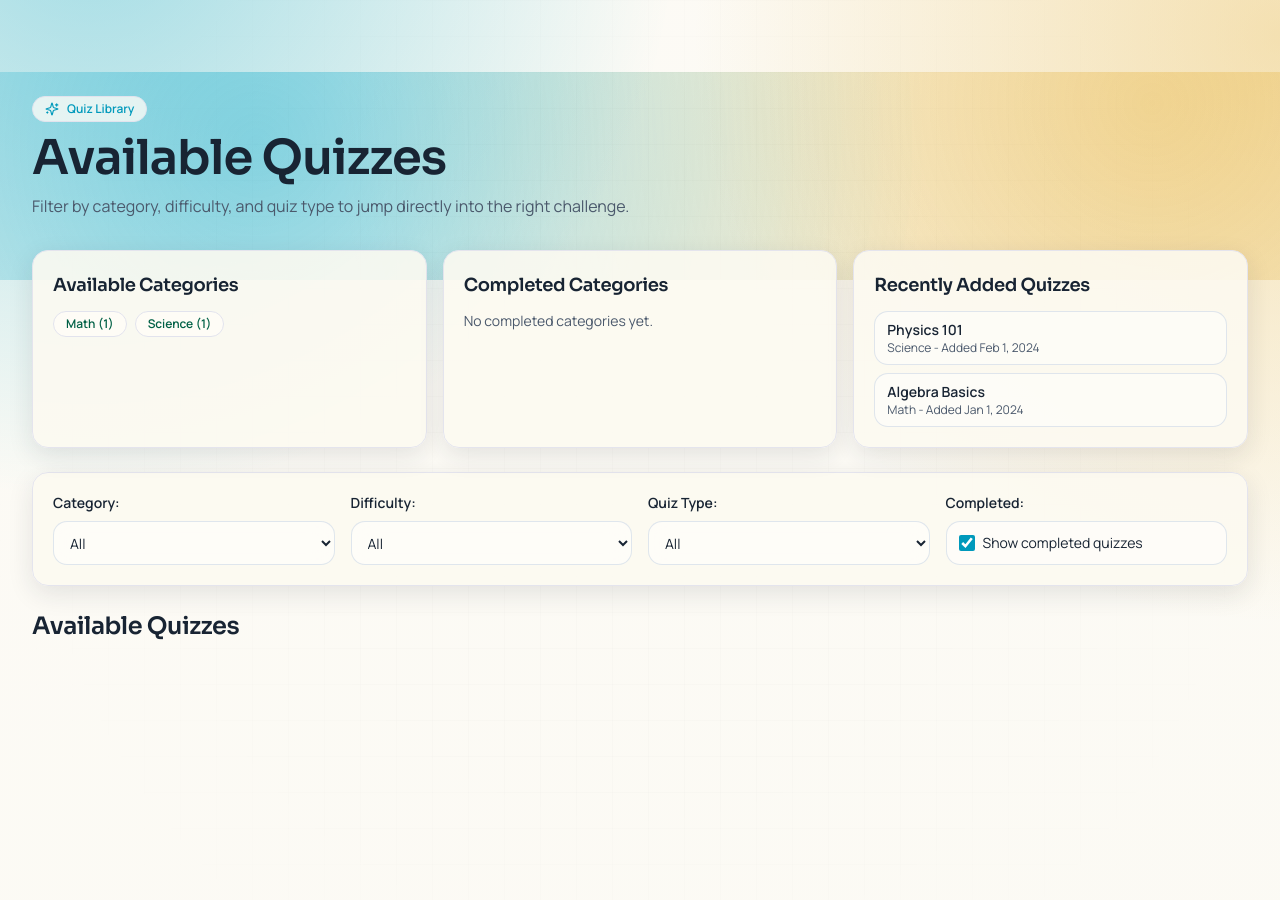
Scenario: HomeClient › filters quizzes by difficulty
Select "All" in the dropdown labelled "Category:" at (194, 543), box [53,521,334,565]
Select "Medium" in the dropdown labelled "Difficulty:" at (491, 543), box [350,521,632,565]
(page scrolled)
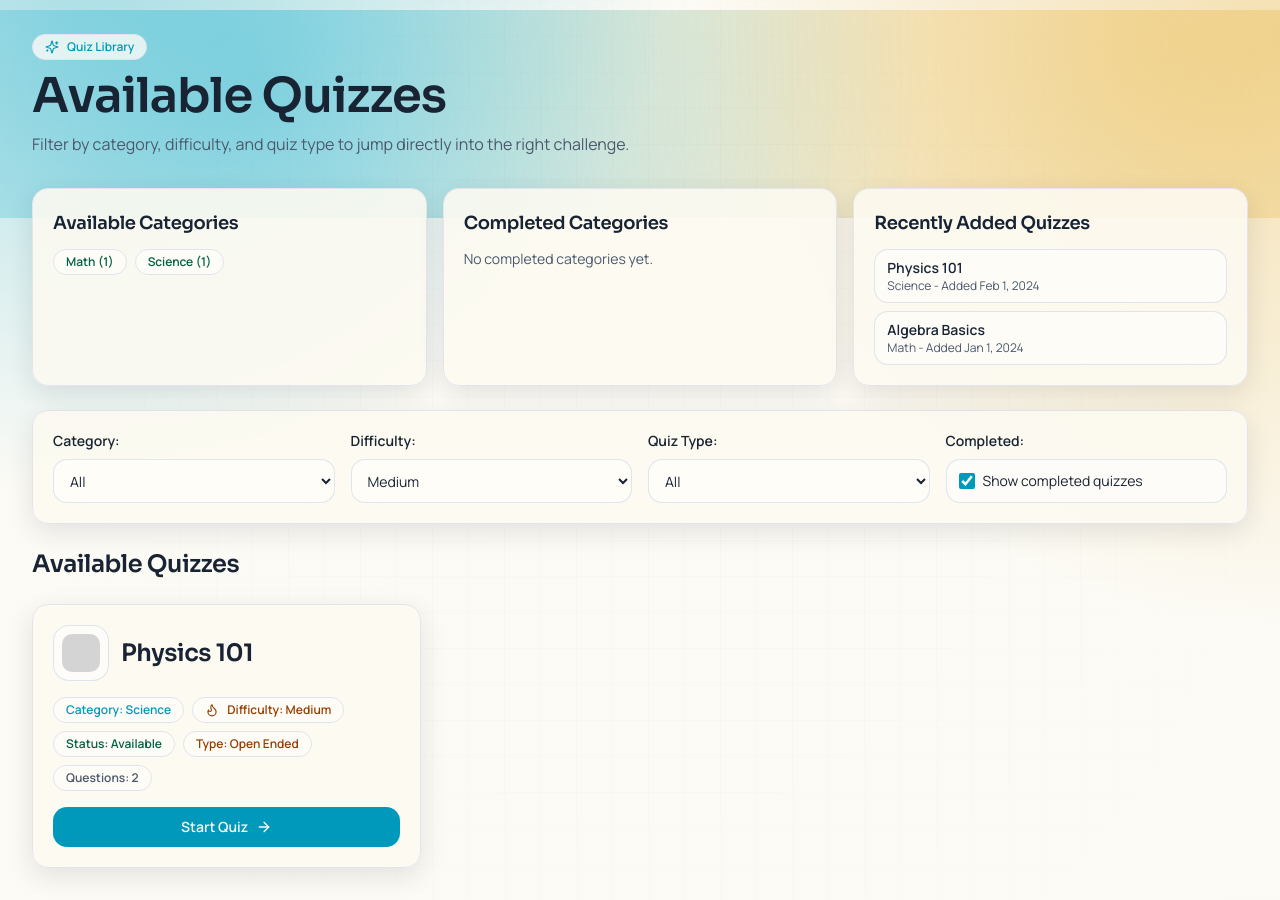
Expected: the link to "/playme/2" is shown, [53,807,400,847]
